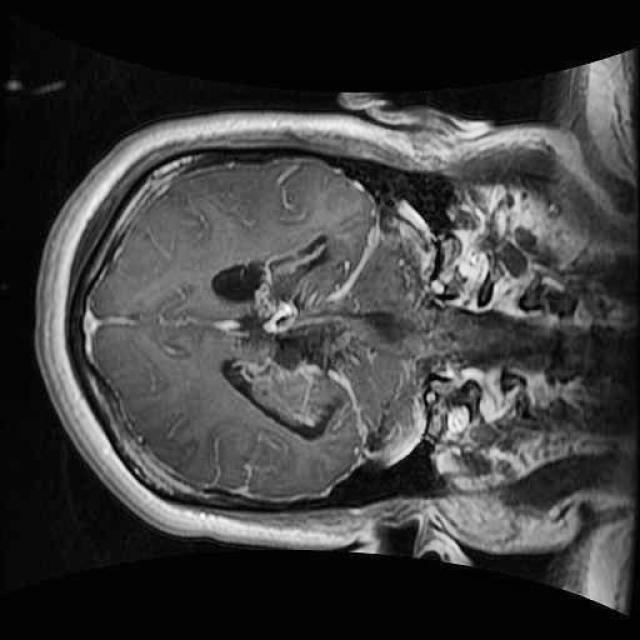Tumor: (200, 215, 394, 450)
